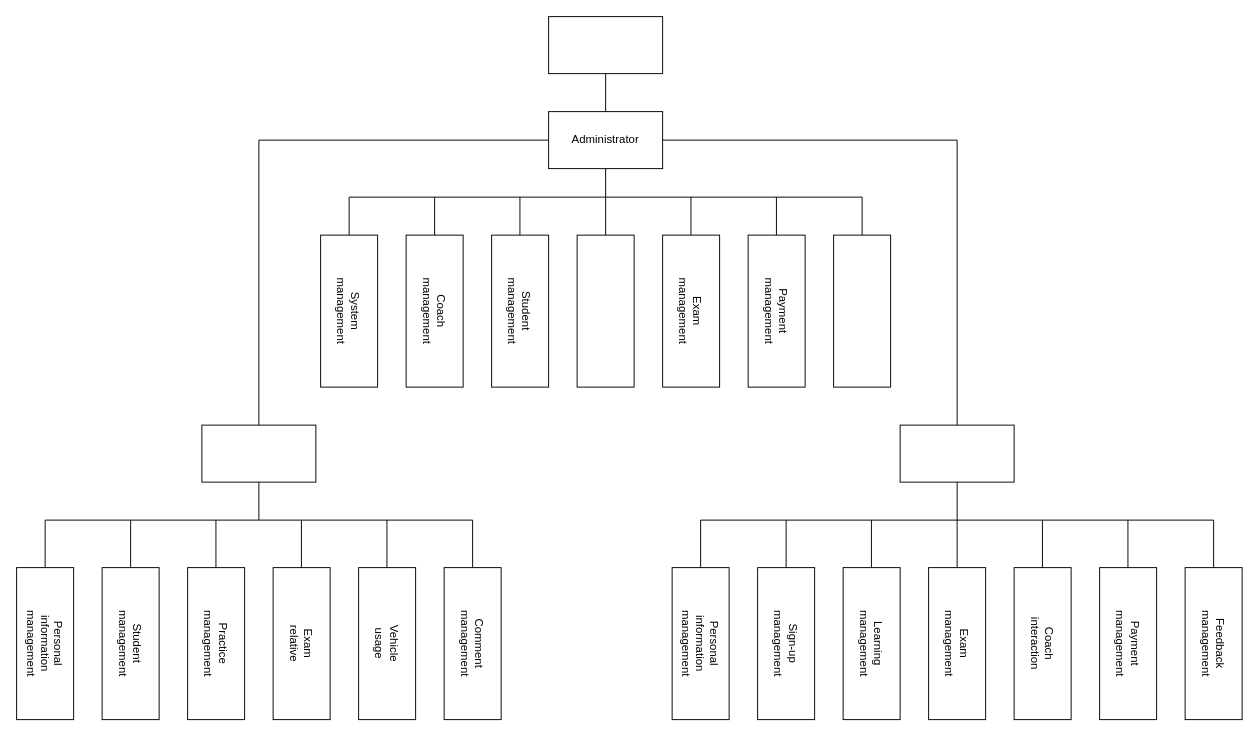
The diagram is 1259 pixels wide and 736 high, and some of its shapes have lost their labels. Here are the shapes that lost their labels. From the top down, the centre of each, then its label:
[605,45]: Driving School Management System
[605,310]: Vehicle management
[862,310]: Content management
[258,453]: Coach
[956,453]: Student
